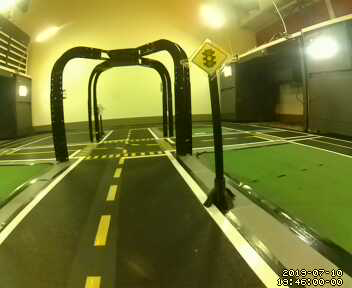Traffic light sign: (191, 39, 229, 75)
